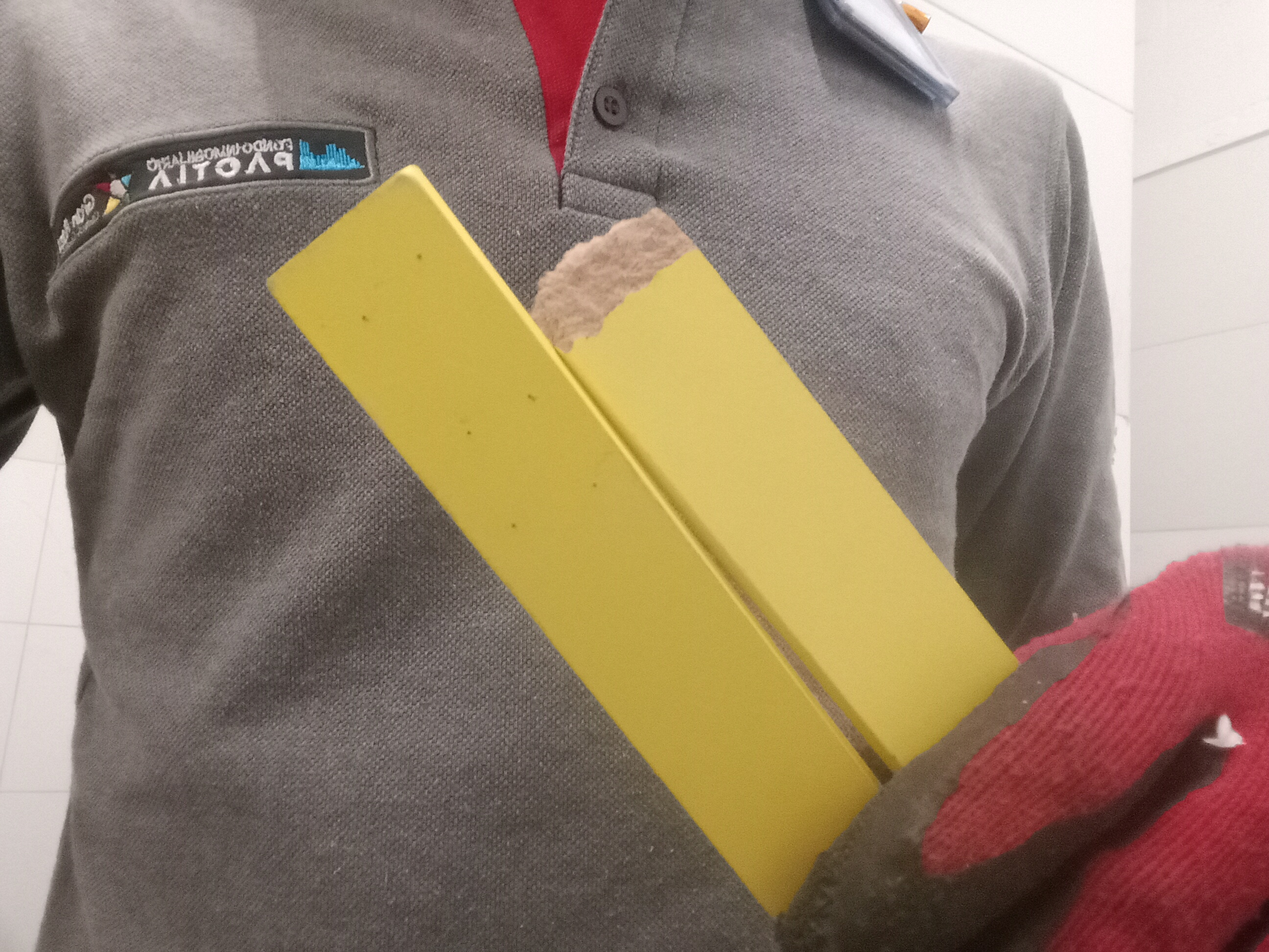Ordinario: (263, 163, 1027, 923)
